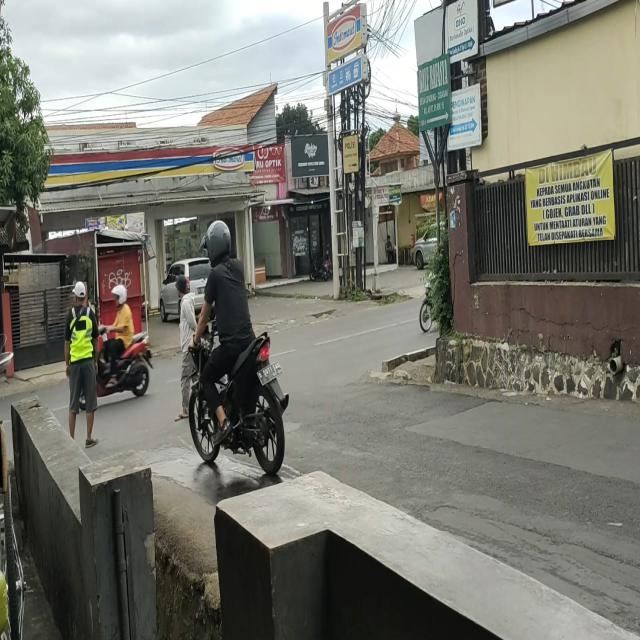helmet: (208, 218, 232, 261), (114, 286, 127, 306)
